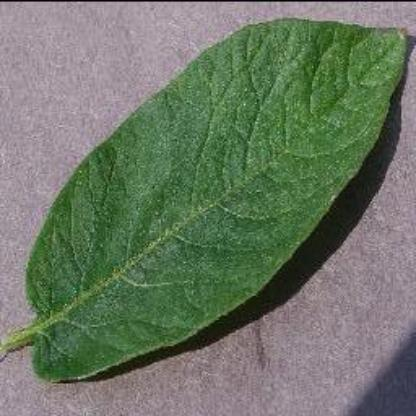Healthy-plant: (24, 16, 404, 394)
